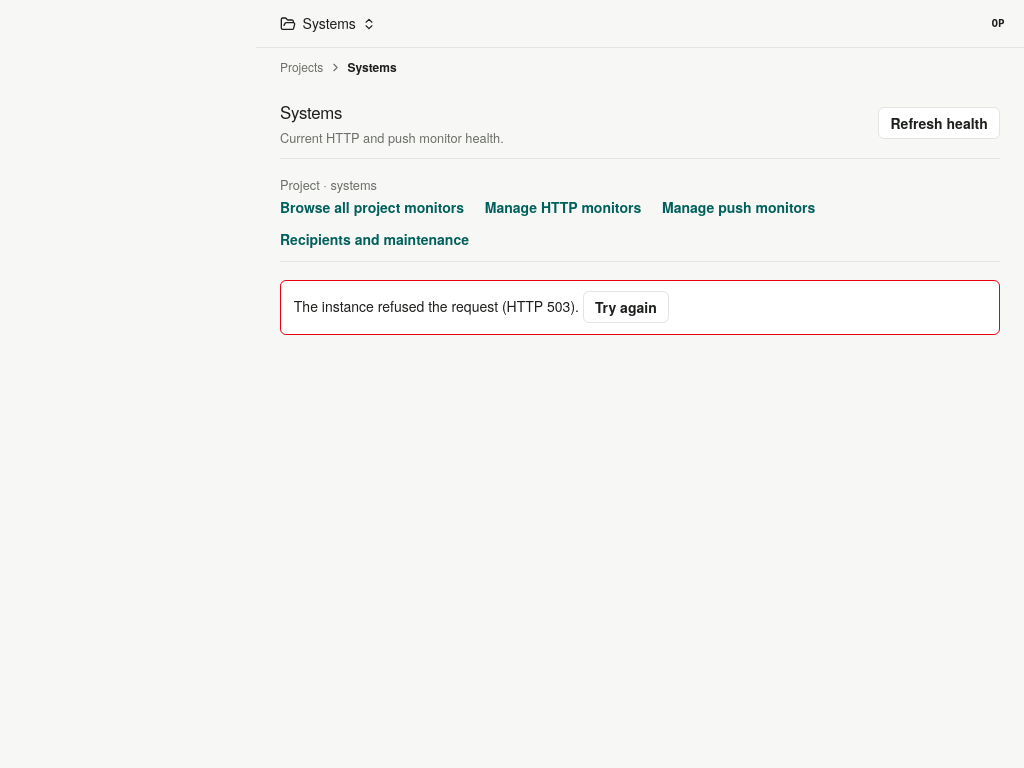
Scenario: shows an empty project and retries an unavailable report without rendering untrusted diagnostics
This screenshot has width=1024, height=768.
Check: the message shows "HTTP 503", box x1=294 y1=296 x2=579 y2=316
Click the button "Try again": point(626, 307) x1=583 y1=291 x2=669 y2=323
(page scrolled)
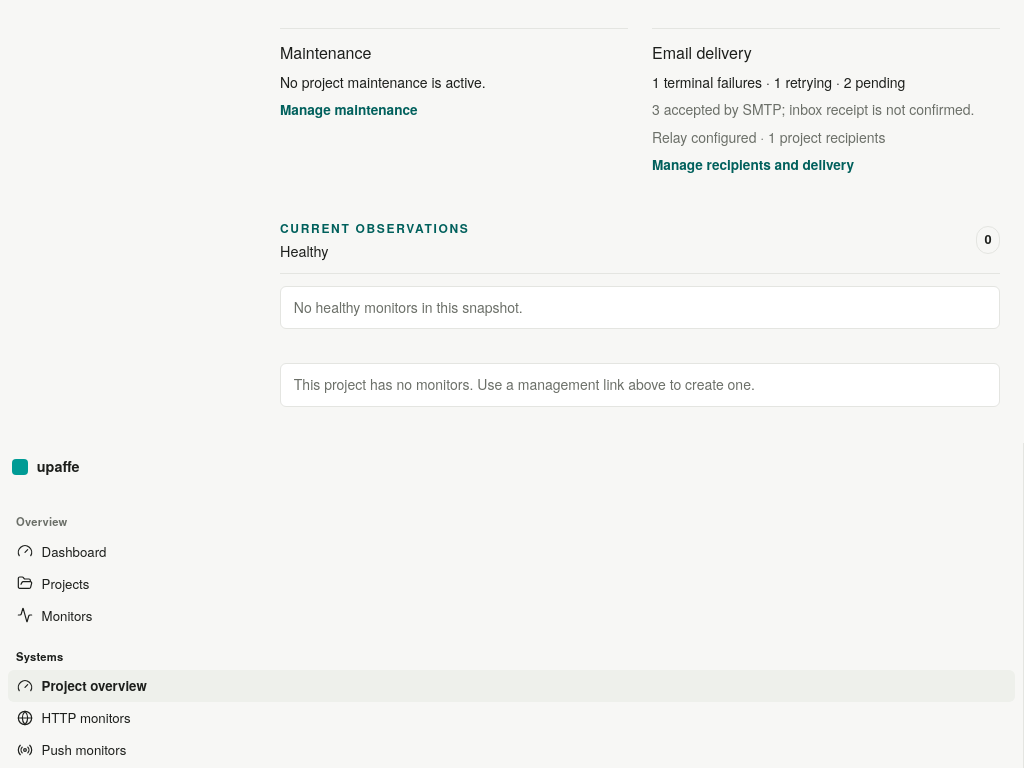
Check: the text "This project has no monitors. Use a management link above to create one." is shown, box x1=280 y1=363 x2=1000 y2=407
